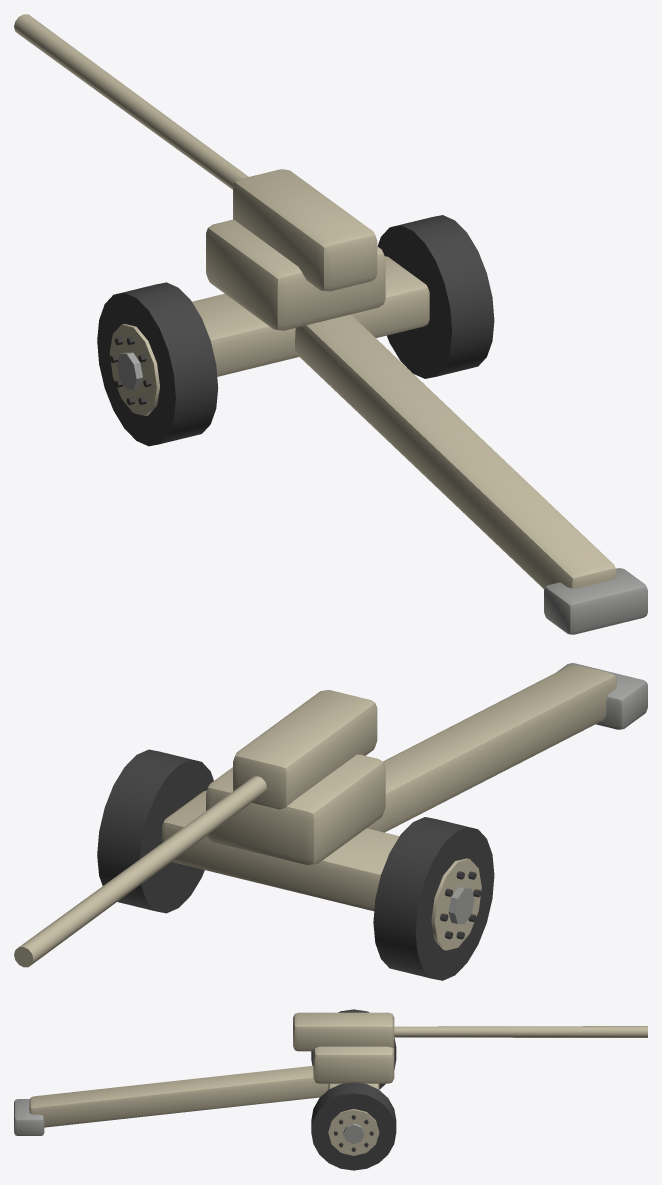
The model's file is usa_tow_m101.glb.
3 views of the same model, one above another, from view 1: azimuth 30°, elevation 25°; view 2: azimuth 150°, elevation 25°; view 3: azimuth 270°, elevation 25° (orthographic). The views are drawn at different scales.
Visible parts, largest first — view 1: body, barrel, wheel_0, wheel_1, turret; view 2: body, barrel, wheel_0, turret, wheel_1; view 3: body, barrel, wheel_1, turret.
Part boxes in pixels (x1,y1,x2,y2): body: [192, 256, 647, 634]; barrel: [14, 14, 377, 291]; wheel_0: [97, 282, 218, 446]; wheel_1: [377, 215, 494, 378]; turret: [206, 219, 385, 330]; body: [162, 663, 647, 911]; barrel: [14, 690, 377, 967]; wheel_0: [373, 817, 494, 980]; turret: [206, 754, 385, 864]; wheel_1: [97, 749, 213, 913]; body: [14, 1066, 379, 1135]; barrel: [293, 1012, 647, 1051]; wheel_1: [311, 1082, 396, 1170]; turret: [313, 1046, 394, 1083].
Bounding box in the file's own units: 2.08 × 1.2 × 6.25.
